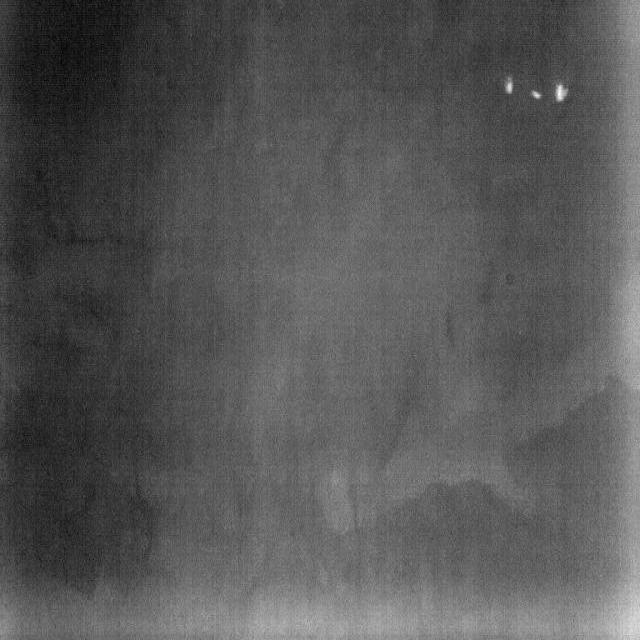deer: (556, 84, 570, 104), (503, 74, 515, 94), (530, 90, 542, 100)
